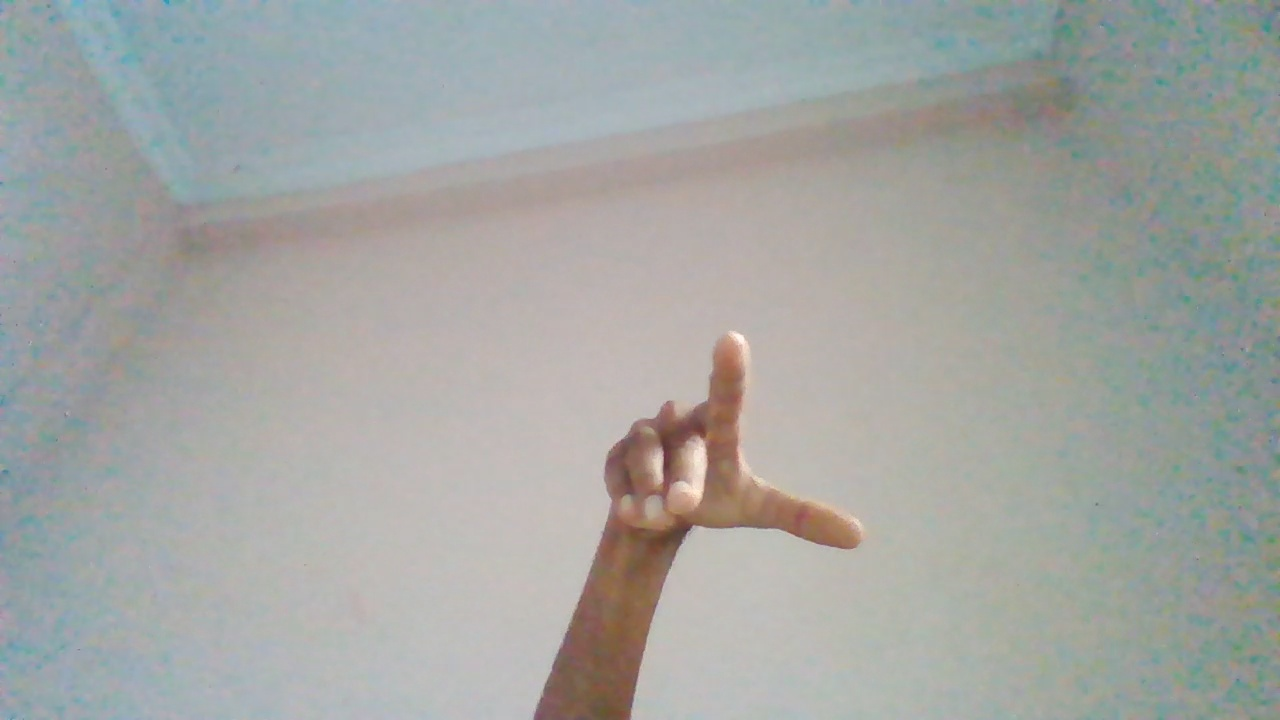ke: (591, 333, 872, 709)
